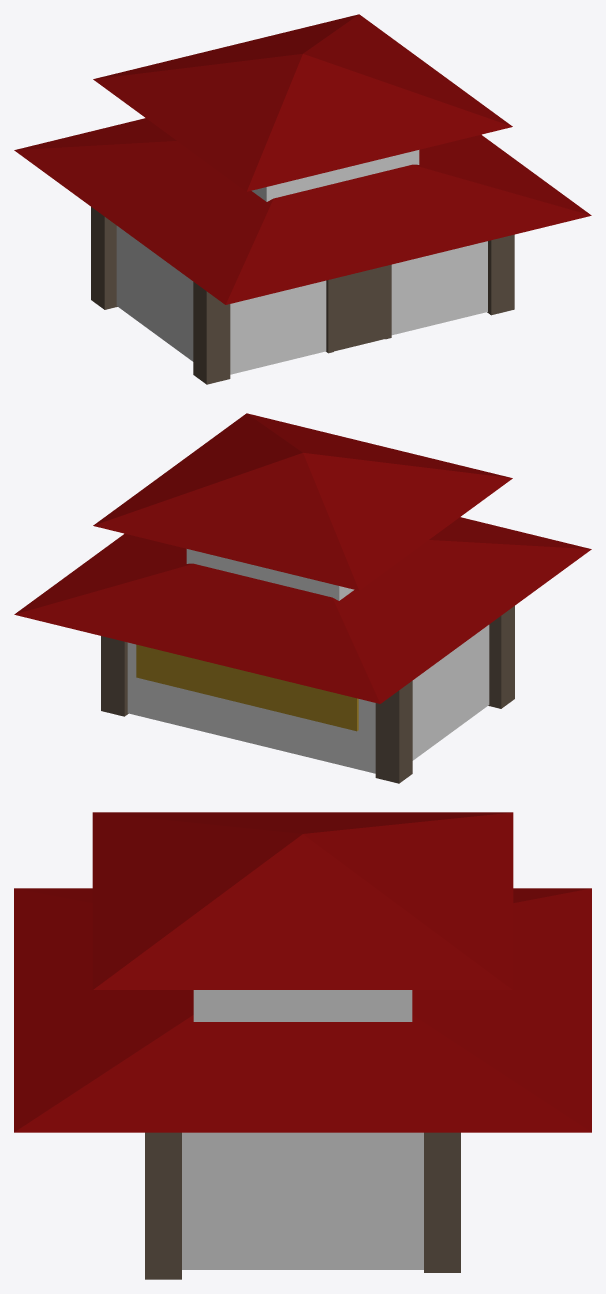
The model's file is House B.fbx.
The picture shows the model from 3 angles, top to bottom: view 1: azimuth 30°, elevation 25°; view 2: azimuth 150°, elevation 25°; view 3: azimuth 270°, elevation 25°; orthographic projection. The views are drawn at different scales.
Parts seen in each view (by area): view 1: pCone1, pCone2, pasted__pCube1, pCube3, pCube6, pCube7, pasted__pasted__pasted__pCube1, pCube5, pasted__pCube3, pasted__pCube4; view 2: pCone1, pCone2, pasted__pCube1, pCube4, pCube7, pCube6, pasted__pasted__pasted__pCube1, pCube8; view 3: pCone1, pCone2, pasted__pCube1, pasted__pasted__pasted__pCube1, pCube5, pCube8.
Part boxes in pixels (x1,y1,x2,y2): pCone1: (14,118,591,304); pCone2: (93,14,512,191); pasted__pCube1: (116,226,487,374); pCube3: (333,269,385,351); pCube6: (193,282,230,384); pCube7: (91,207,117,309); pasted__pasted__pasted__pCube1: (251,150,419,201); pCube5: (487,234,514,315); pasted__pCube3: (326,278,333,353); pasted__pCube4: (385,264,391,339); pCone1: (14,517,591,703); pCone2: (93,413,512,590); pasted__pCube1: (127,625,489,773); pCube4: (136,644,358,731); pCube7: (375,681,412,783); pCube6: (488,606,514,708); pasted__pasted__pasted__pCube1: (186,549,354,600); pCube8: (101,636,128,716); pCone1: (14,888,591,1132); pCone2: (92,812,513,989); pasted__pCube1: (182,1132,423,1269); pasted__pasted__pasted__pCube1: (193,990,412,1021); pCube5: (145,1132,181,1279); pCube8: (424,1132,460,1272).
Bounding box in the file's own units: 15.56 × 10.18 × 15.56.
